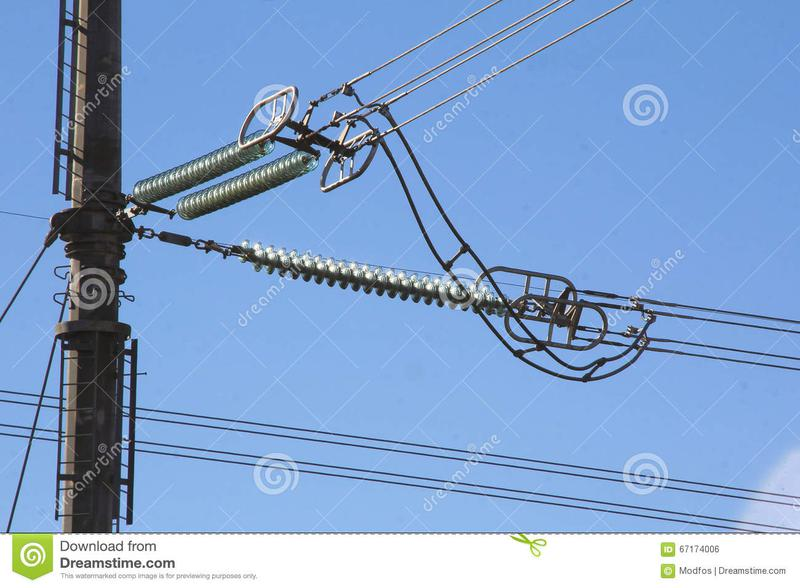isolator: (237, 237, 511, 319), (132, 129, 320, 221)
